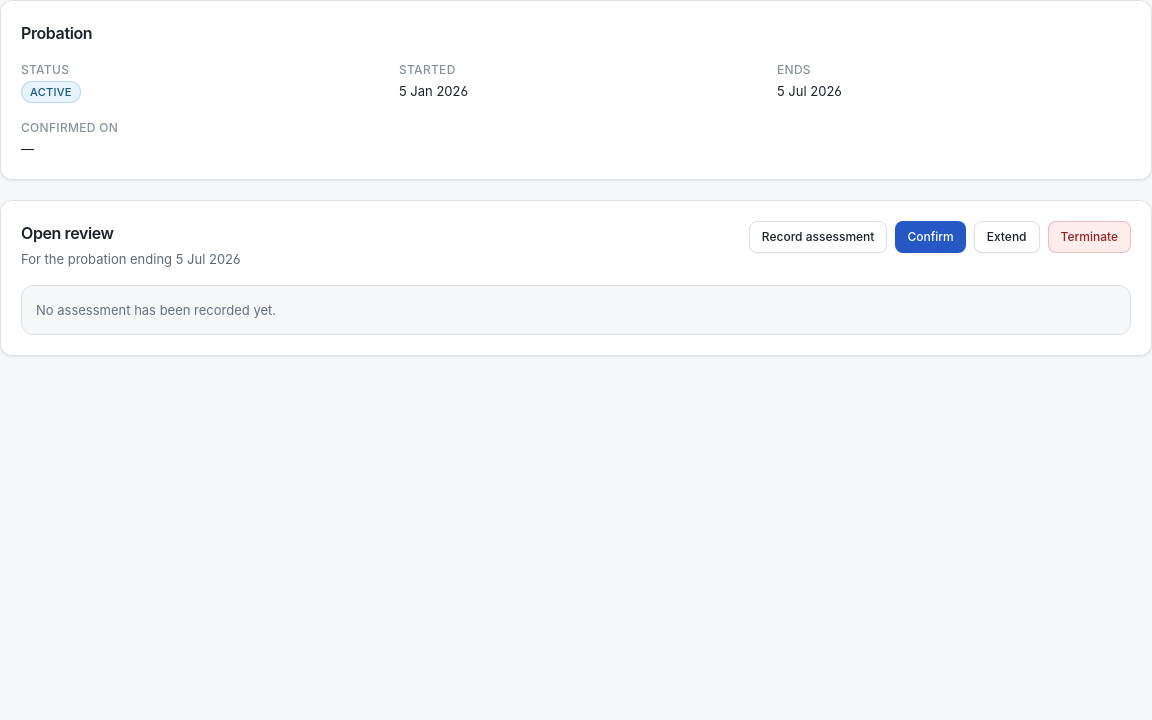
Test: Probation › requires a rationale to terminate
This screenshot has width=1152, height=720.
Click the button "Terminate".
click(1089, 237)  # box [1048,221,1131,253]
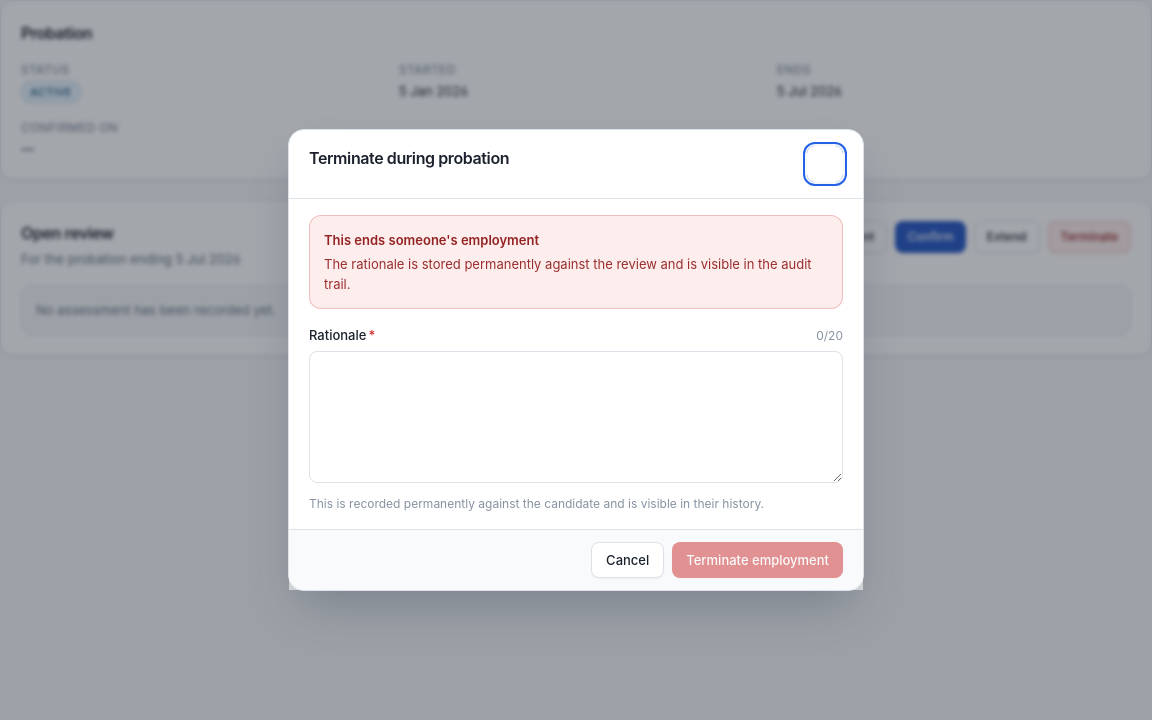
Expected: the button "Terminate employment" is disabled, [672,542,843,578]
